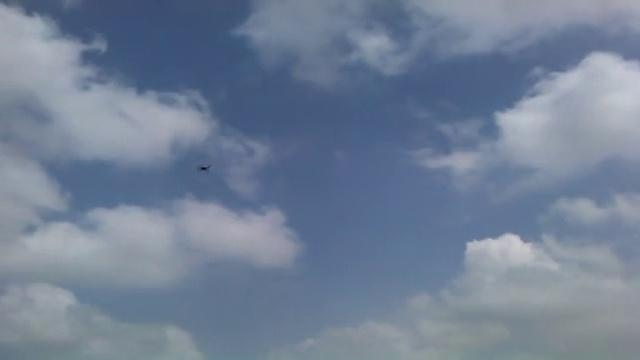drone: (195, 159, 213, 175)
